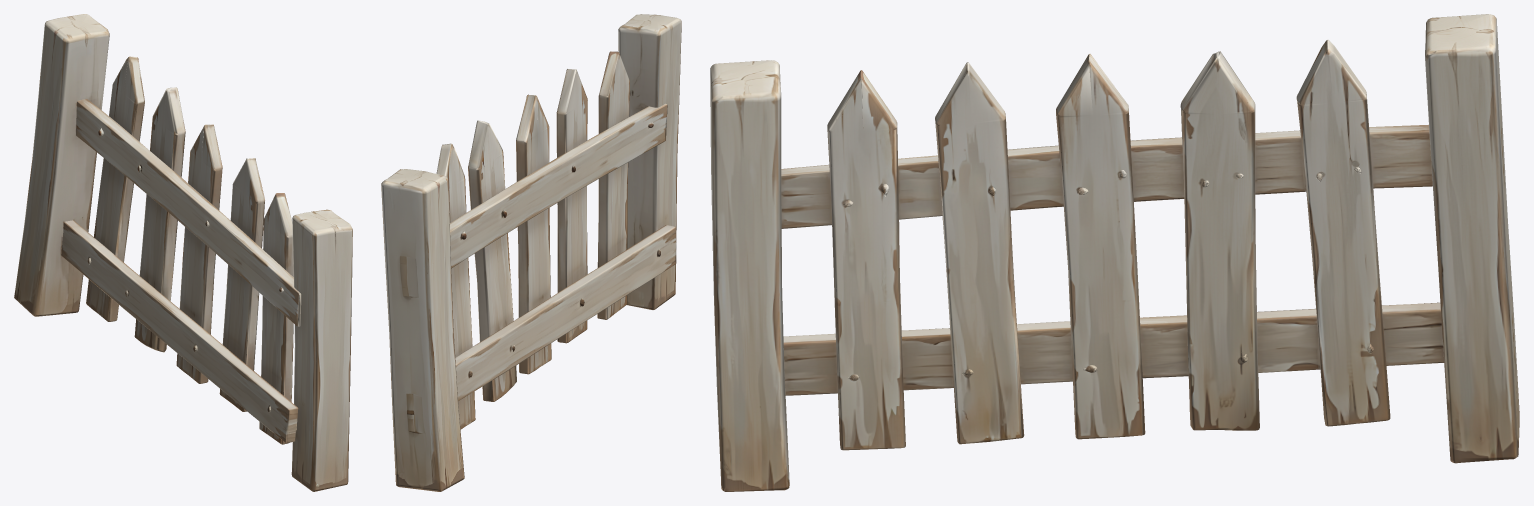
3 views of the same model, side by side, from view 1: azimuth 30°, elevation 25°; view 2: azimuth 150°, elevation 25°; view 3: azimuth 270°, elevation 25° (orthographic). The views are drawn at different scales.
Visible parts, largest first — view 1: tripo_node_95cb14d4; view 2: tripo_node_95cb14d4; view 3: tripo_node_95cb14d4.
Boxes of the visible parts, bbox=[...] form: tripo_node_95cb14d4: bbox=[14, 14, 352, 491]; tripo_node_95cb14d4: bbox=[381, 14, 681, 491]; tripo_node_95cb14d4: bbox=[710, 14, 1519, 491].
Size of the model in its own units: 0.1665 by 0.605 by 0.9995.
Materials: 1 (1 with a texture image).
